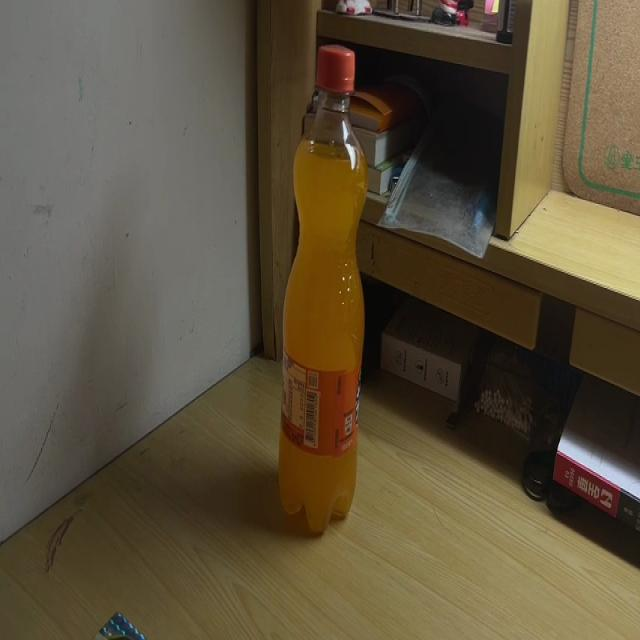Fanta: (279, 45, 366, 536)
